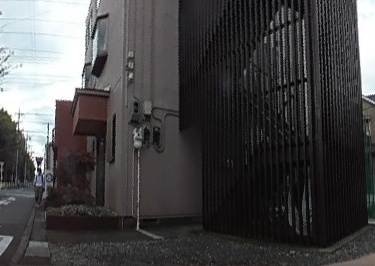person: (33, 164, 45, 204)
